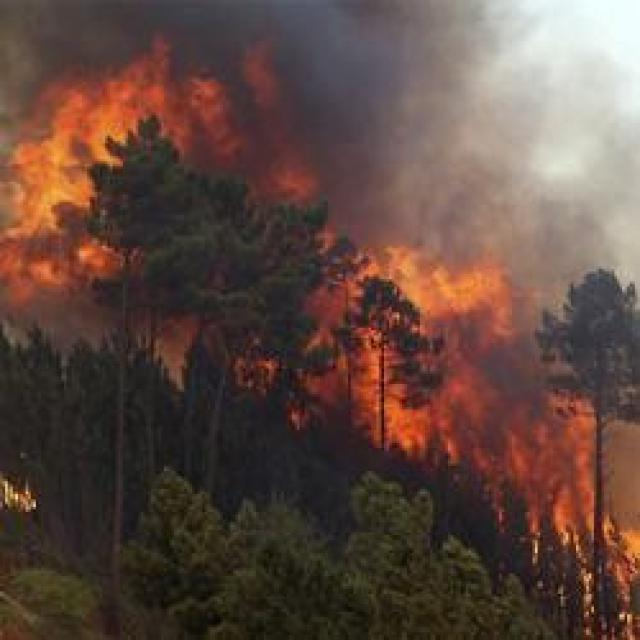Fire: (0, 59, 178, 290), (341, 261, 508, 462)
Smoke: (233, 5, 640, 240)
